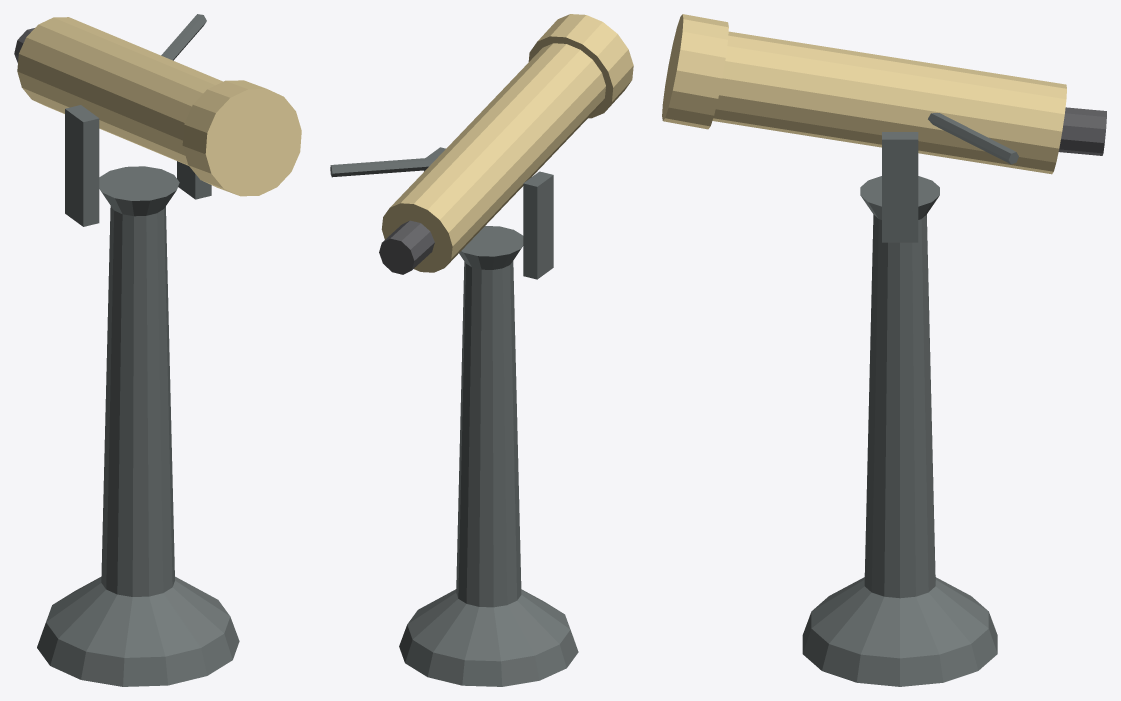
File: coin_telescope.glb
The picture shows the model from 3 angles, left to right: view 1: azimuth 30°, elevation 25°; view 2: azimuth 150°, elevation 25°; view 3: azimuth 270°, elevation 25°; orthographic projection. The views are drawn at different scales.
Visible parts, largest first — view 1: coin_telescope_iron, coin_telescope_brass; view 2: coin_telescope_iron, coin_telescope_brass, coin_telescope_dark; view 3: coin_telescope_iron, coin_telescope_brass, coin_telescope_dark.
Part boxes in pixels (x1=…): coin_telescope_iron: x1=37, y1=14, x2=239, y2=686; coin_telescope_brass: x1=17, y1=17, x2=301, y2=196; coin_telescope_iron: x1=330, y1=147, x2=578, y2=686; coin_telescope_brass: x1=381, y1=14, x2=633, y2=272; coin_telescope_dark: x1=379, y1=220, x2=434, y2=274; coin_telescope_iron: x1=802, y1=113, x2=1018, y2=686; coin_telescope_brass: x1=662, y1=14, x2=1066, y2=174; coin_telescope_dark: x1=1058, y1=107, x2=1106, y2=155.
Size of the model in its own units: 0.5296 by 1.52 by 0.9783.
